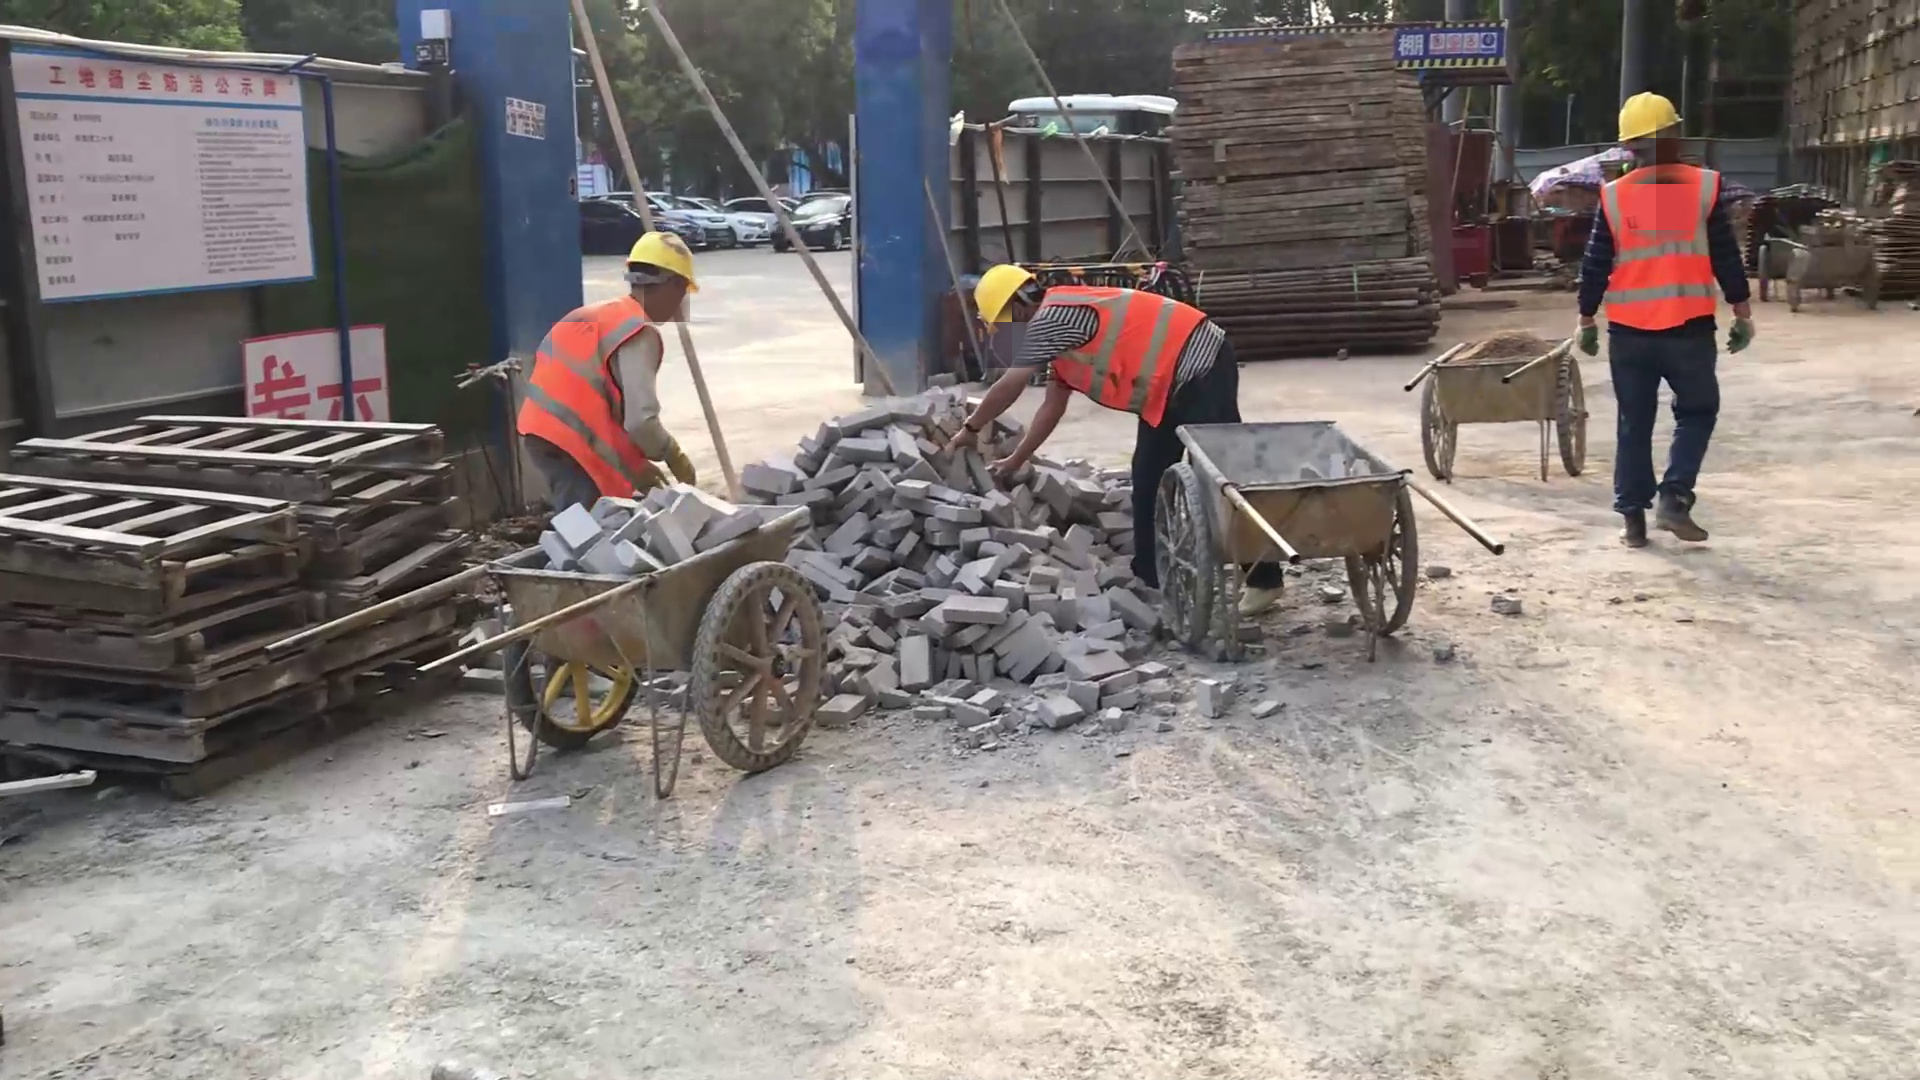board: (1872, 157, 1920, 306)
handcart: (264, 500, 832, 803), (1148, 416, 1510, 665), (1398, 330, 1593, 488), (1776, 237, 1880, 315), (1756, 233, 1797, 303)
helmet: (618, 225, 703, 299), (966, 258, 1045, 332), (1611, 86, 1690, 153)
person: (945, 258, 1290, 621), (1577, 86, 1756, 551), (511, 226, 701, 520)
scaffold: (1194, 263, 1457, 355)
slogan: (8, 39, 319, 300), (243, 322, 391, 428), (1395, 20, 1503, 72)
vest: (508, 295, 665, 505), (1047, 280, 1210, 432), (1598, 159, 1731, 336)
wood: (1172, 32, 1432, 271)
